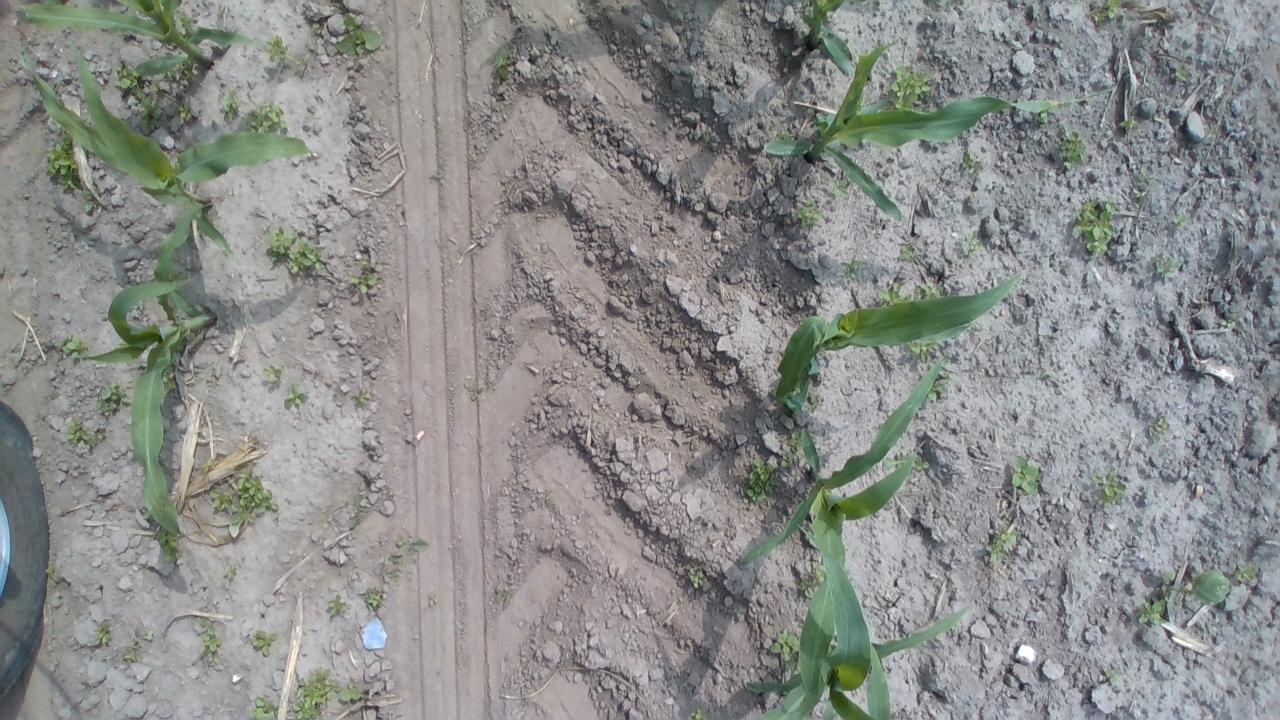Maize: (8, 32, 322, 253), (738, 366, 946, 690), (764, 38, 1112, 224), (75, 200, 217, 545), (742, 522, 976, 720), (773, 272, 1025, 417), (18, 0, 258, 79), (802, 0, 855, 77)
Weeds: (209, 463, 278, 527), (1158, 566, 1232, 608), (262, 224, 324, 274), (292, 665, 341, 720), (1072, 198, 1118, 254), (890, 63, 935, 113), (46, 127, 80, 192), (336, 12, 384, 55), (746, 454, 780, 503), (1056, 121, 1088, 172), (1009, 453, 1042, 498), (770, 628, 802, 674), (246, 101, 288, 135), (196, 617, 224, 667), (66, 415, 106, 449), (790, 192, 826, 229), (94, 382, 132, 417), (794, 560, 827, 600), (1092, 470, 1128, 506), (884, 446, 929, 471), (986, 528, 1017, 564), (115, 64, 146, 98), (350, 257, 377, 294), (156, 526, 183, 562), (878, 282, 914, 308), (134, 97, 162, 130), (906, 338, 941, 364), (1137, 597, 1168, 626), (56, 334, 90, 360), (1150, 255, 1184, 280), (247, 628, 276, 657), (249, 694, 280, 720), (1090, 0, 1124, 23), (781, 432, 802, 467), (839, 255, 865, 282), (264, 35, 288, 64), (220, 87, 240, 120), (493, 46, 511, 80), (284, 381, 308, 406), (961, 229, 982, 257), (962, 150, 984, 176), (397, 534, 428, 552), (927, 374, 948, 400), (326, 594, 350, 616), (82, 189, 102, 215), (338, 681, 362, 702), (160, 370, 178, 398), (688, 564, 707, 590), (1236, 560, 1258, 582), (351, 494, 364, 530), (260, 365, 284, 384), (94, 622, 112, 647), (120, 640, 140, 662), (830, 178, 850, 200), (363, 586, 382, 609), (172, 61, 194, 80), (918, 281, 944, 297), (174, 16, 194, 36), (350, 389, 370, 408), (222, 560, 242, 578), (1040, 101, 1058, 121), (1169, 214, 1190, 231), (898, 242, 915, 262), (1220, 312, 1238, 330), (177, 102, 193, 122), (1152, 416, 1168, 433), (1175, 66, 1192, 82), (201, 458, 219, 473), (688, 707, 708, 720), (774, 130, 795, 142), (148, 79, 162, 96), (46, 560, 58, 578), (498, 590, 510, 608), (1120, 118, 1138, 130), (1106, 671, 1122, 683), (311, 21, 324, 34), (939, 353, 950, 368), (1133, 188, 1149, 198), (703, 130, 713, 145), (42, 393, 58, 402), (428, 592, 438, 606), (144, 631, 156, 642), (792, 382, 802, 395), (1040, 368, 1053, 378), (292, 56, 306, 65), (799, 278, 810, 289), (1140, 166, 1150, 178), (810, 397, 819, 409), (389, 570, 402, 578), (116, 340, 128, 348), (1023, 137, 1034, 145), (161, 435, 167, 449), (841, 36, 850, 44), (776, 410, 786, 417)
